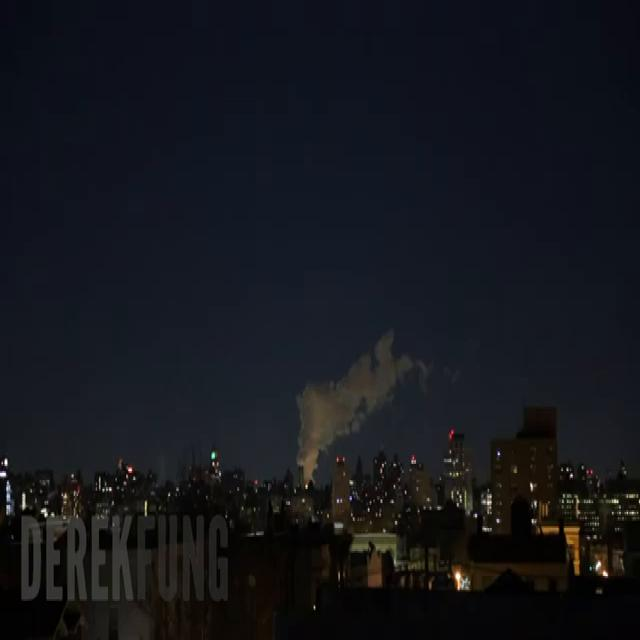smoke: (296, 331, 428, 478)
